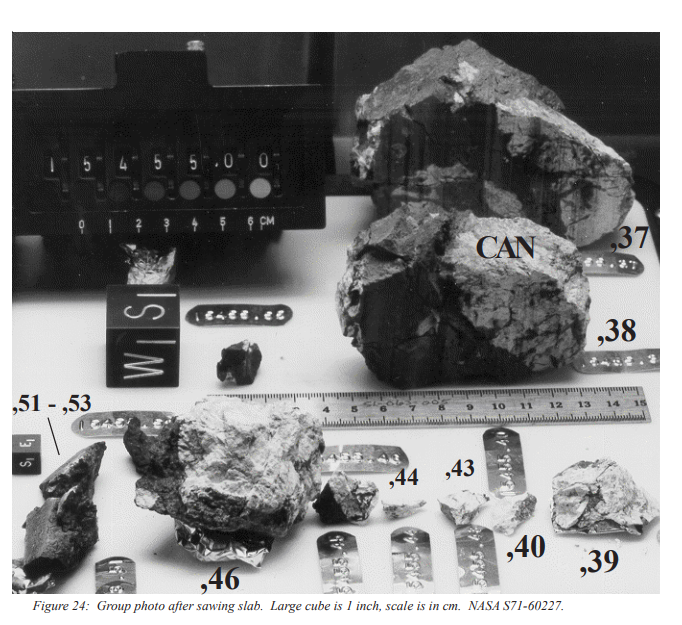Breccia: (367, 183, 613, 385), (359, 62, 633, 233), (105, 407, 322, 550), (22, 451, 106, 618), (552, 451, 660, 542), (376, 489, 552, 529), (321, 463, 389, 519)
